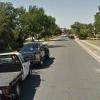Tree: (10, 2, 66, 43)
